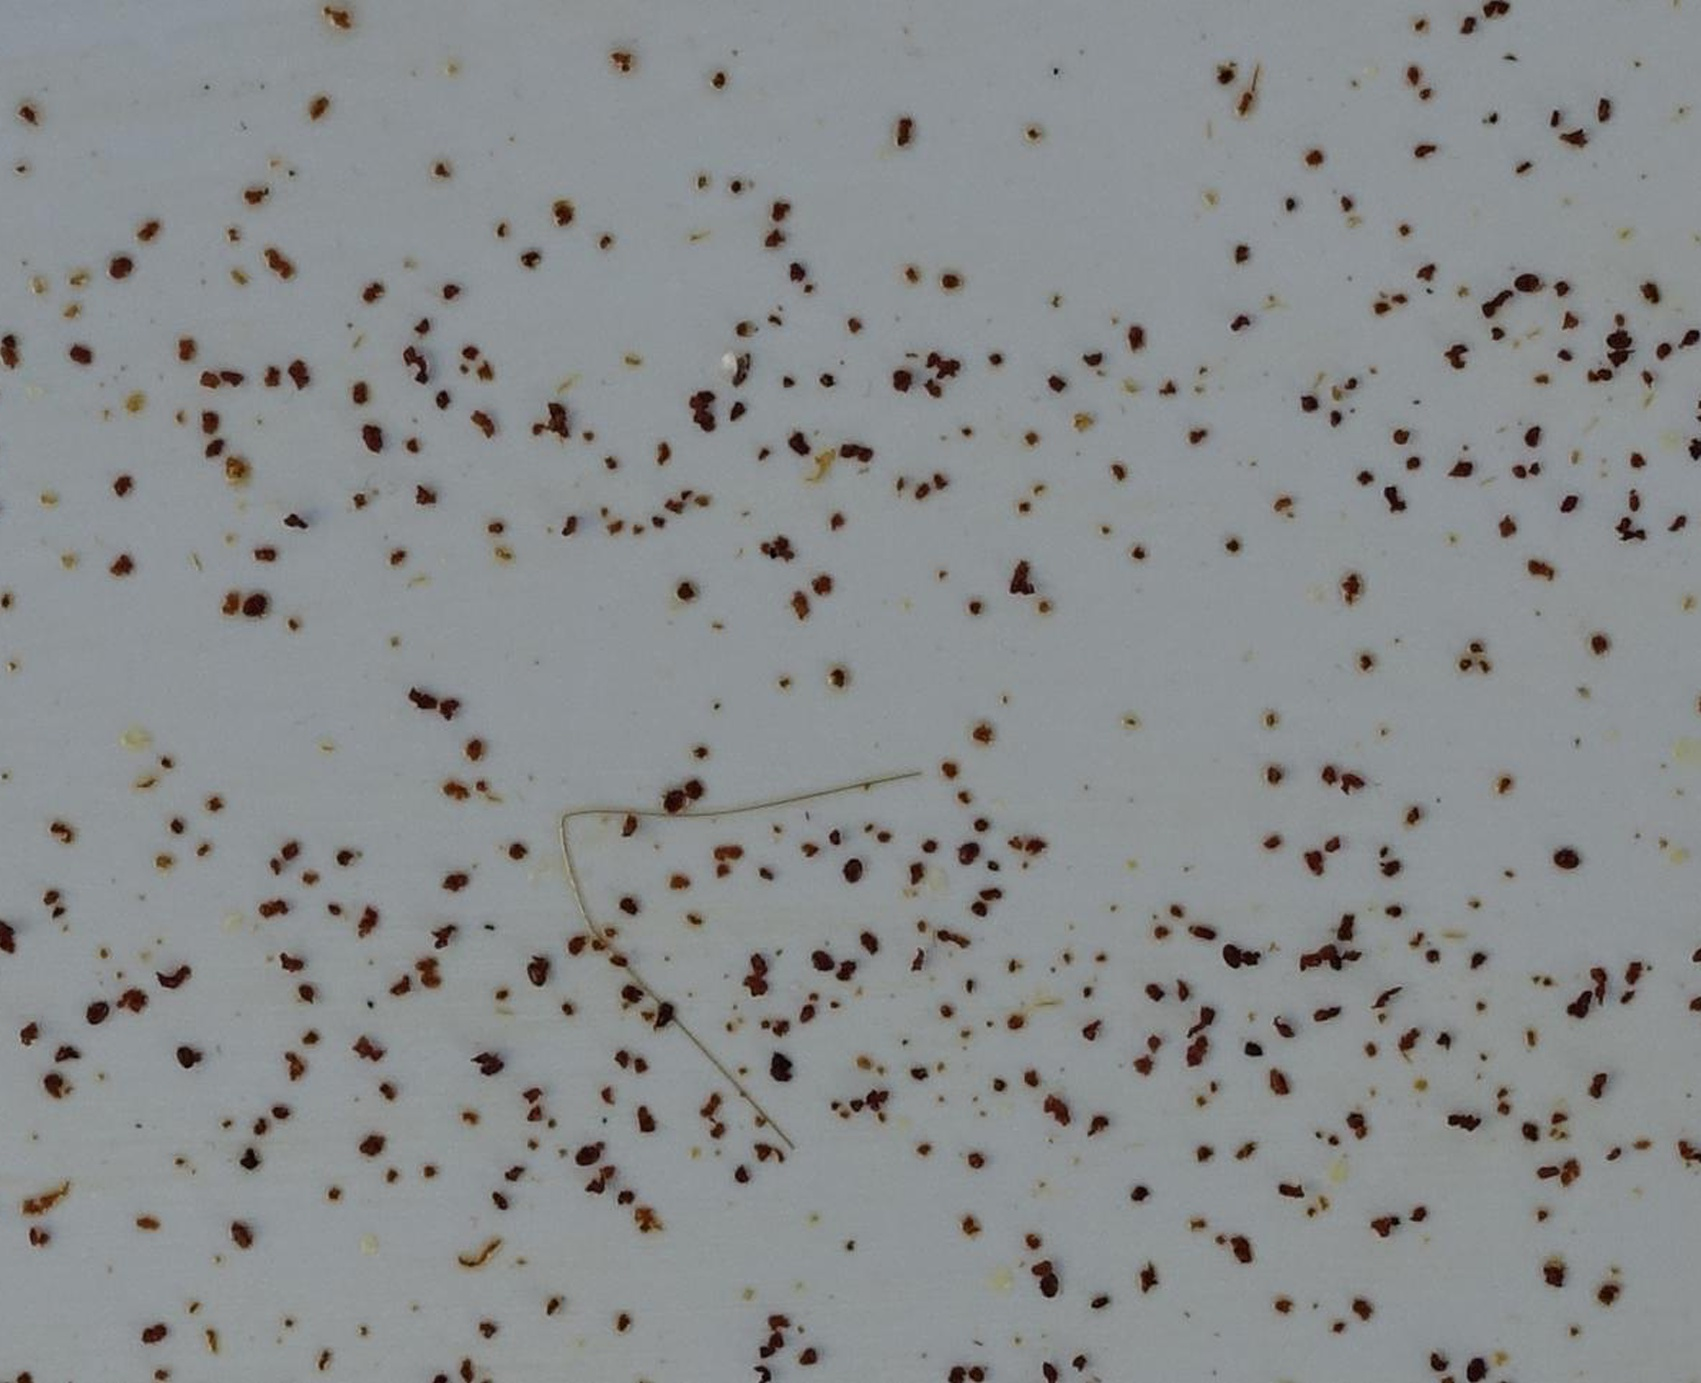Varroa: (527, 960, 551, 985), (1222, 943, 1246, 967), (176, 1046, 200, 1070), (813, 953, 836, 975), (1608, 329, 1630, 351), (88, 1001, 109, 1023), (1467, 1358, 1489, 1379), (112, 257, 133, 279), (957, 843, 980, 864), (577, 1145, 599, 1166), (1517, 272, 1539, 294), (665, 787, 685, 810), (246, 596, 265, 617), (1557, 850, 1577, 871), (1039, 1273, 1059, 1294), (843, 862, 862, 881)
